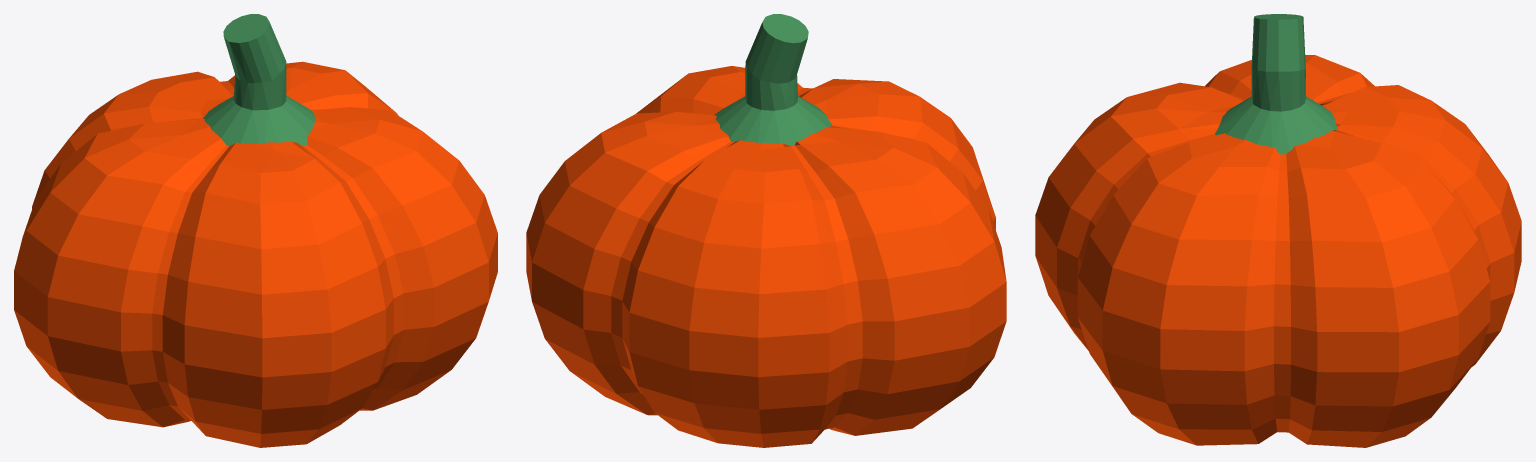
File: pumpking.fbx
3 renders of one model, left to right at view 1: azimuth 30°, elevation 25°; view 2: azimuth 150°, elevation 25°; view 3: azimuth 270°, elevation 25°, orthographic. The views are drawn at different scales.
Parts seen in each view (by area): view 1: Sphere.017; view 2: Sphere.017; view 3: Sphere.017.
Boxes of the visible parts, x1,y1,x2,y2 form: Sphere.017: (14, 14, 497, 447); Sphere.017: (526, 14, 1006, 447); Sphere.017: (1035, 14, 1521, 447).
Size of the model in its own units: 190 by 167 by 190.
